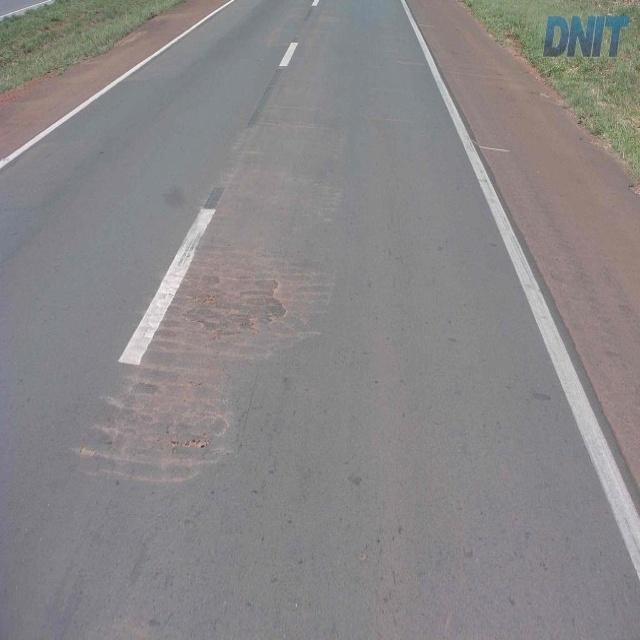pothole: (196, 269, 292, 340), (167, 432, 210, 450)
